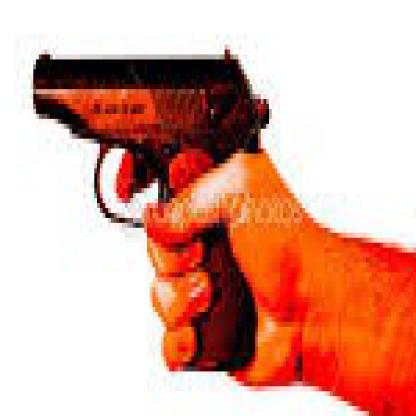gun: (27, 46, 272, 376)
